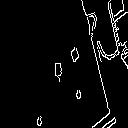cube: (46, 58, 68, 84), (67, 42, 83, 68), (70, 84, 86, 104)
